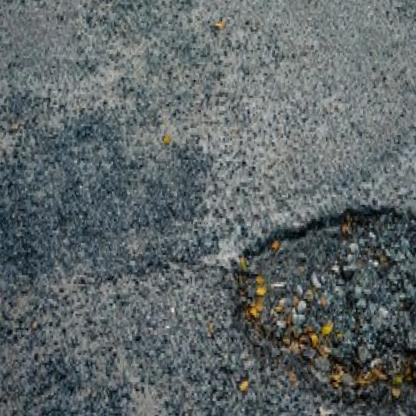pothole: (229, 198, 416, 412)
